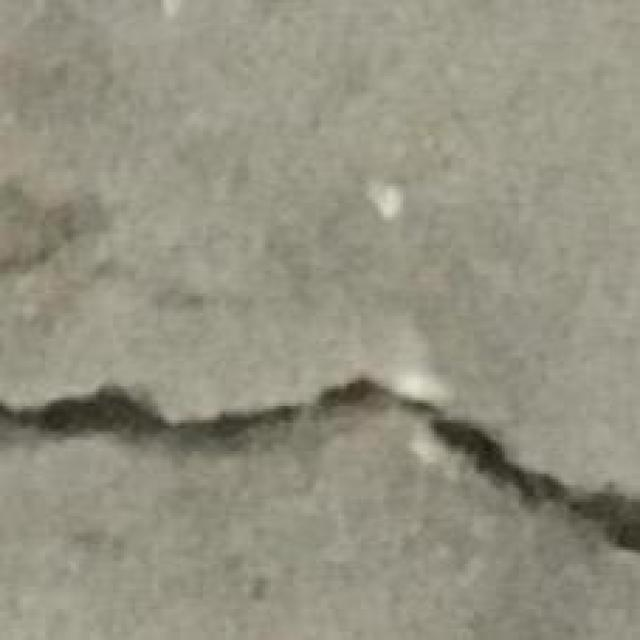horizontal crack: (0, 376, 639, 552)
